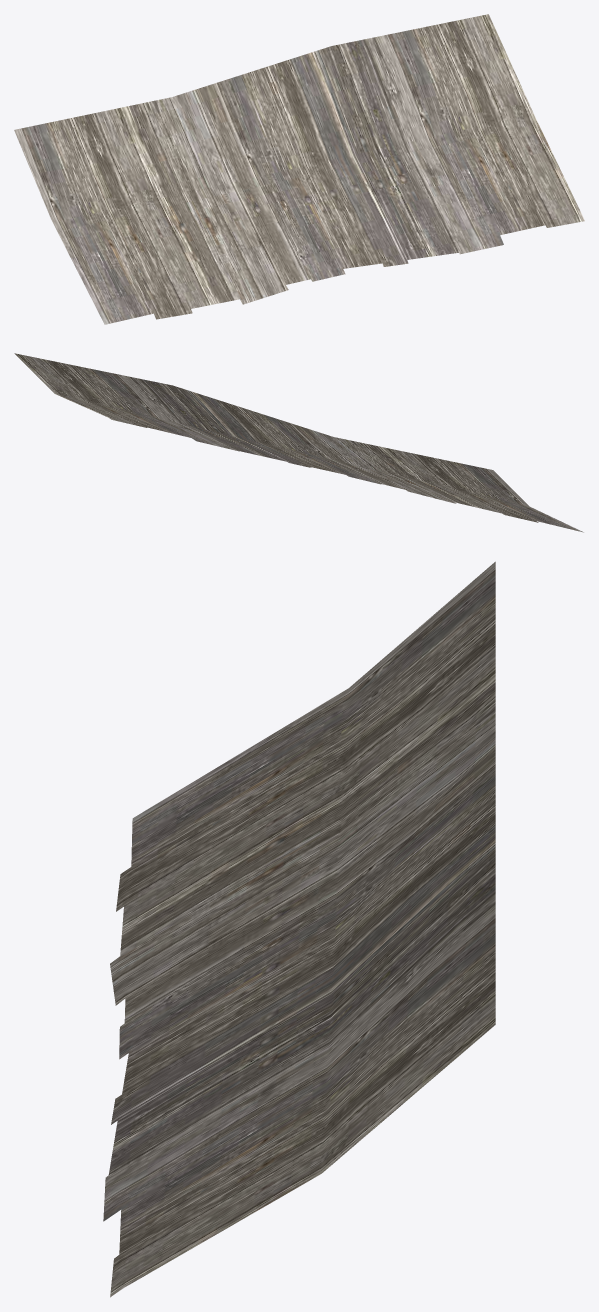
Rendered from roof_bottom_1.fbx.
3 renders of one model, top to bottom at view 1: azimuth 30°, elevation 25°; view 2: azimuth 150°, elevation 25°; view 3: azimuth 270°, elevation 25°, orthographic. The views are drawn at different scales.
Visible parts, largest first — view 1: polySurface304; view 2: polySurface304; view 3: polySurface304.
Boxes of the visible parts, x1=… form: polySurface304: x1=14, y1=14, x2=584, y2=324; polySurface304: x1=14, y1=353, x2=583, y2=532; polySurface304: x1=103, y1=561, x2=495, y2=1297.
Bounding box in the file's own units: 961 × 279 × 341.
